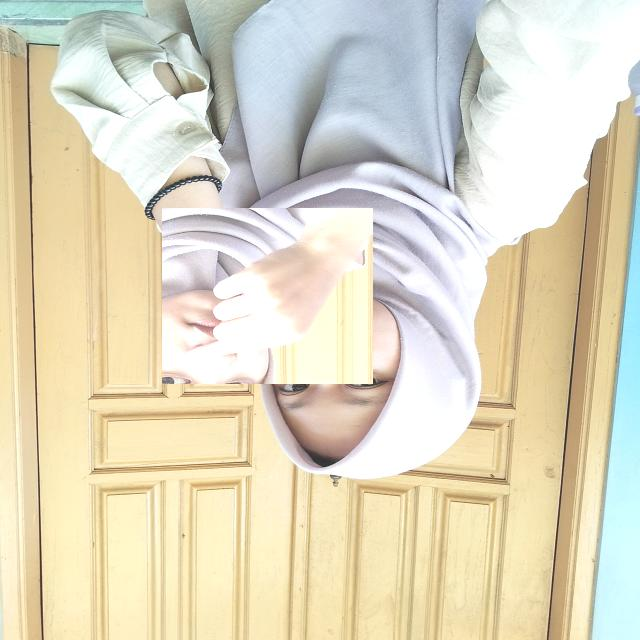bau: (162, 208, 373, 384)
